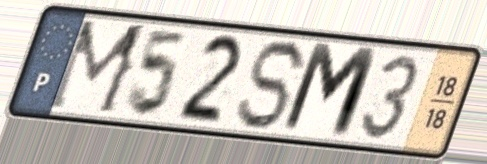2: (174, 31, 247, 130)
3: (355, 52, 425, 142)
5: (122, 27, 193, 119)
M: (276, 39, 384, 144), (42, 17, 153, 119)
S: (232, 37, 315, 133)
